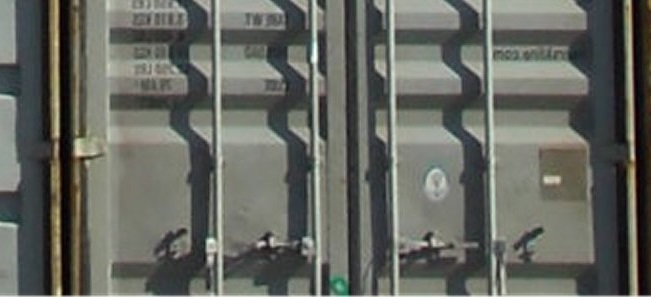container_door: (66, 1, 636, 297)
